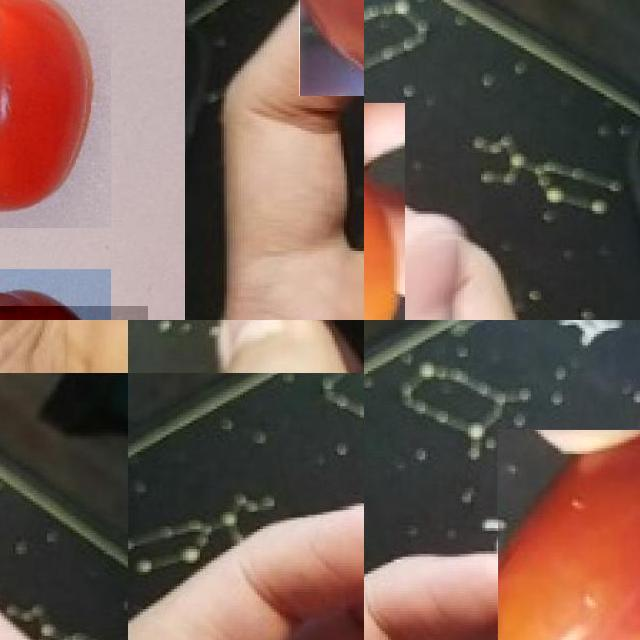0: (0, 0, 111, 228)
Rotten Tomato: (497, 429, 640, 640)
